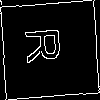R: (25, 25, 69, 65)
